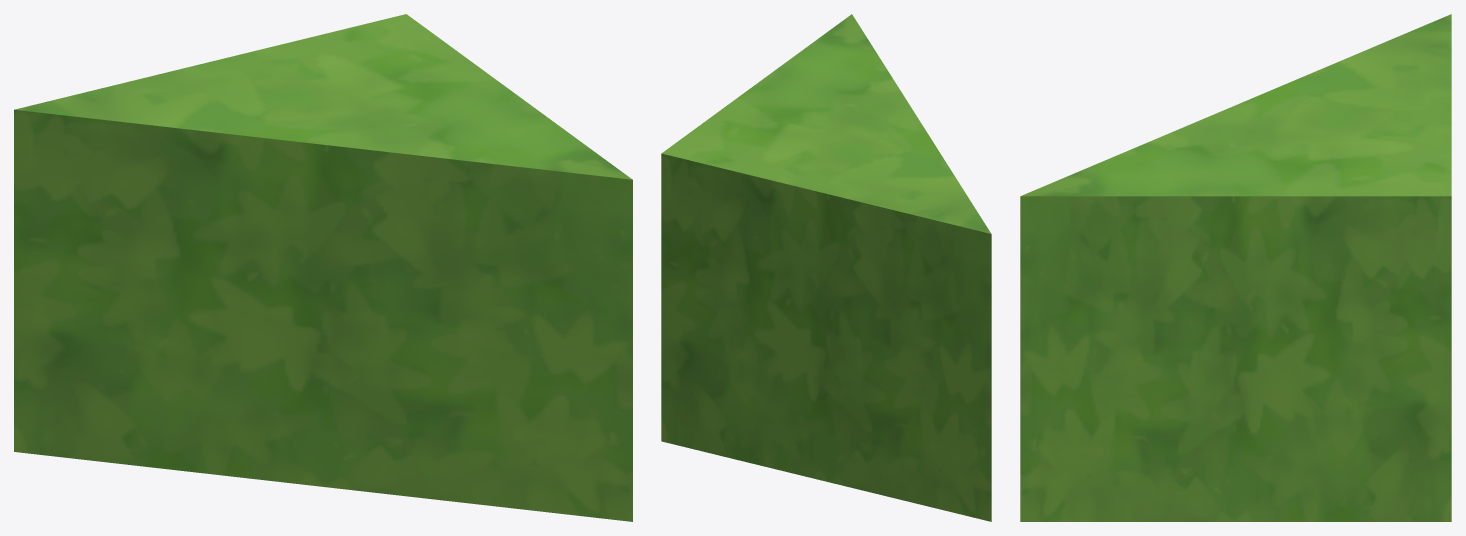
Rendered from DiagonalTile_1x1x2.fbx.
3 views of the same model, side by side, from view 1: azimuth 30°, elevation 25°; view 2: azimuth 150°, elevation 25°; view 3: azimuth 270°, elevation 25° (orthographic). The views are drawn at different scales.
Parts seen in each view (by area): view 1: DiagonalTile_1x1x2; view 2: DiagonalTile_1x1x2; view 3: DiagonalTile_1x1x2.
Boxes of the visible parts, <box> form: DiagonalTile_1x1x2: <box>14,14,632,521</box>; DiagonalTile_1x1x2: <box>661,14,991,521</box>; DiagonalTile_1x1x2: <box>1020,14,1451,521</box>.
Size of the model in its own units: 3 by 3 by 2.5.
